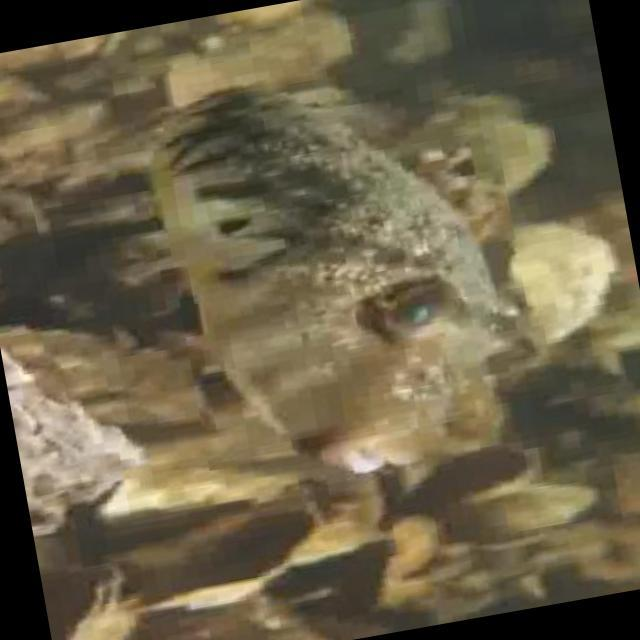Oyster- Indeterminate: (148, 457, 386, 565), (3, 346, 149, 521), (164, 8, 354, 107), (488, 221, 618, 339), (0, 187, 69, 318), (20, 30, 142, 93), (450, 123, 552, 195), (211, 0, 343, 54), (39, 566, 131, 640), (465, 186, 522, 249), (432, 94, 522, 126)
Oyster-Closed: (442, 482, 599, 542)
Oyster-Open: (427, 149, 479, 190)
